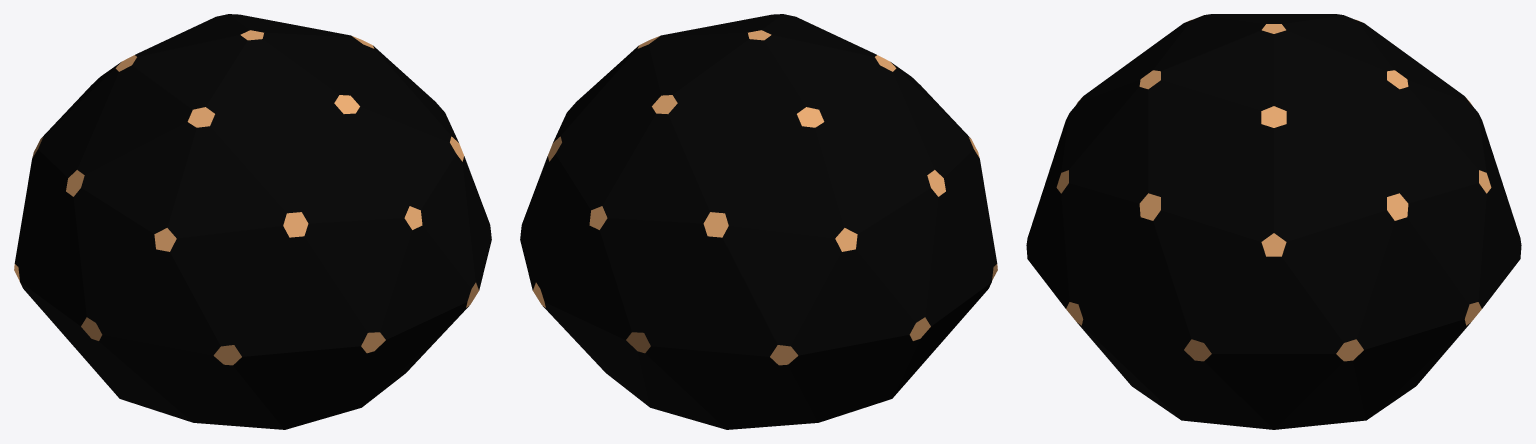
Rendered from Bush_4.fbx.
3 renders of one model, left to right at view 1: azimuth 30°, elevation 25°; view 2: azimuth 150°, elevation 25°; view 3: azimuth 270°, elevation 25°, orthographic. The views are drawn at different scales.
Parts seen in each view (by area): view 1: Bush_4; view 2: Bush_4; view 3: Bush_4.
Part boxes in pixels (bbox=[...]): Bush_4: bbox=[14, 14, 491, 429]; Bush_4: bbox=[520, 14, 997, 429]; Bush_4: bbox=[1026, 14, 1521, 429].
Size of the model in its own units: 0.3804 by 0.297 by 0.394.
